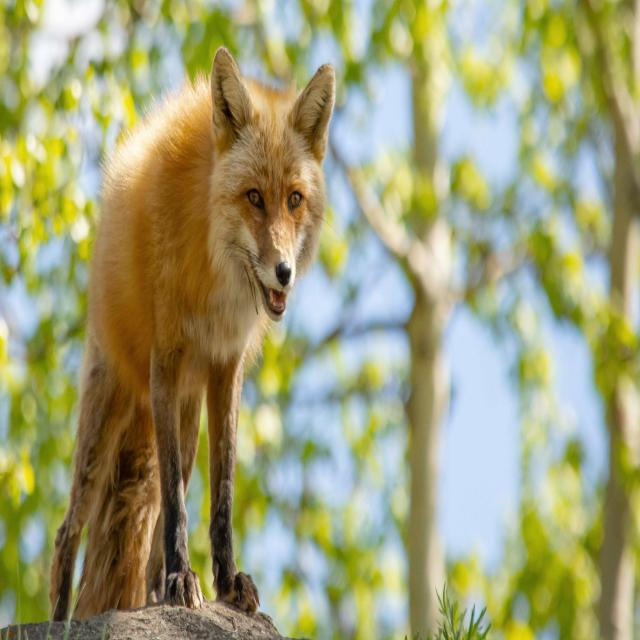fox: (50, 48, 335, 620)
